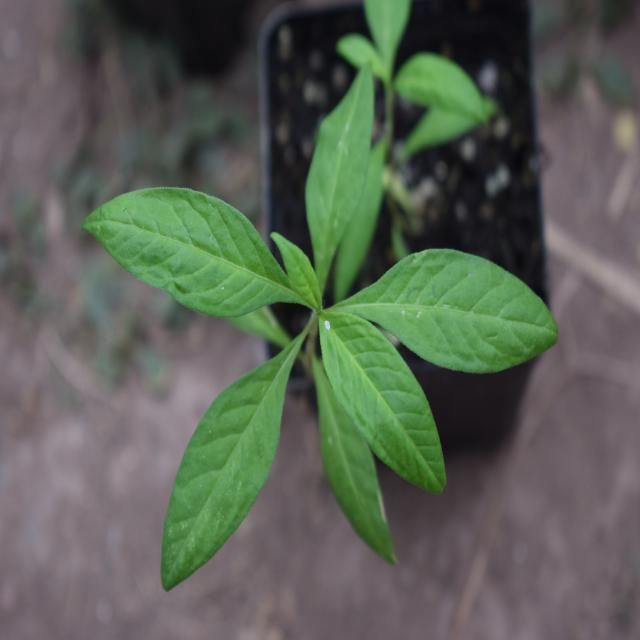white_smart_weed: (88, 123, 510, 560)
